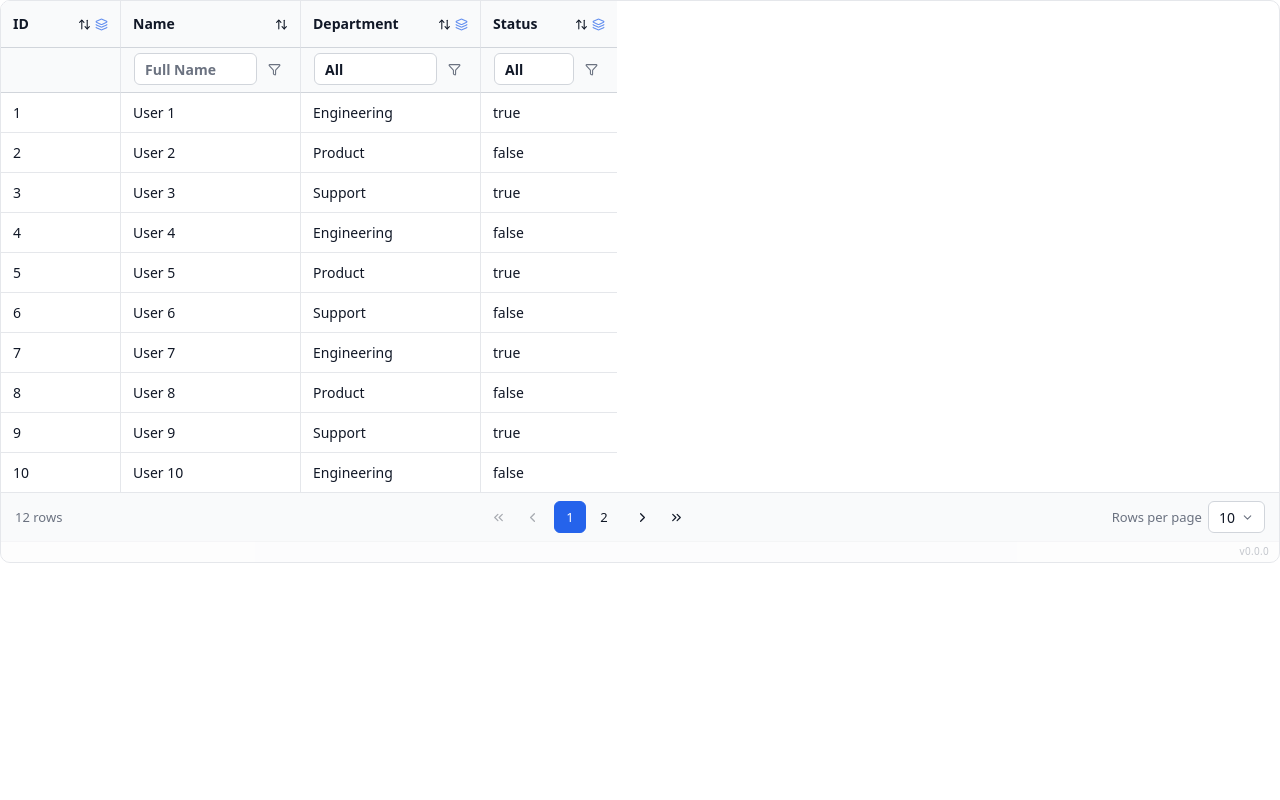
DataTable - pagination › clamps the page index after a column filter shrinks the row count
Step 1. Click the button named "Next page" → click(642, 517), box [626,501,658,533]
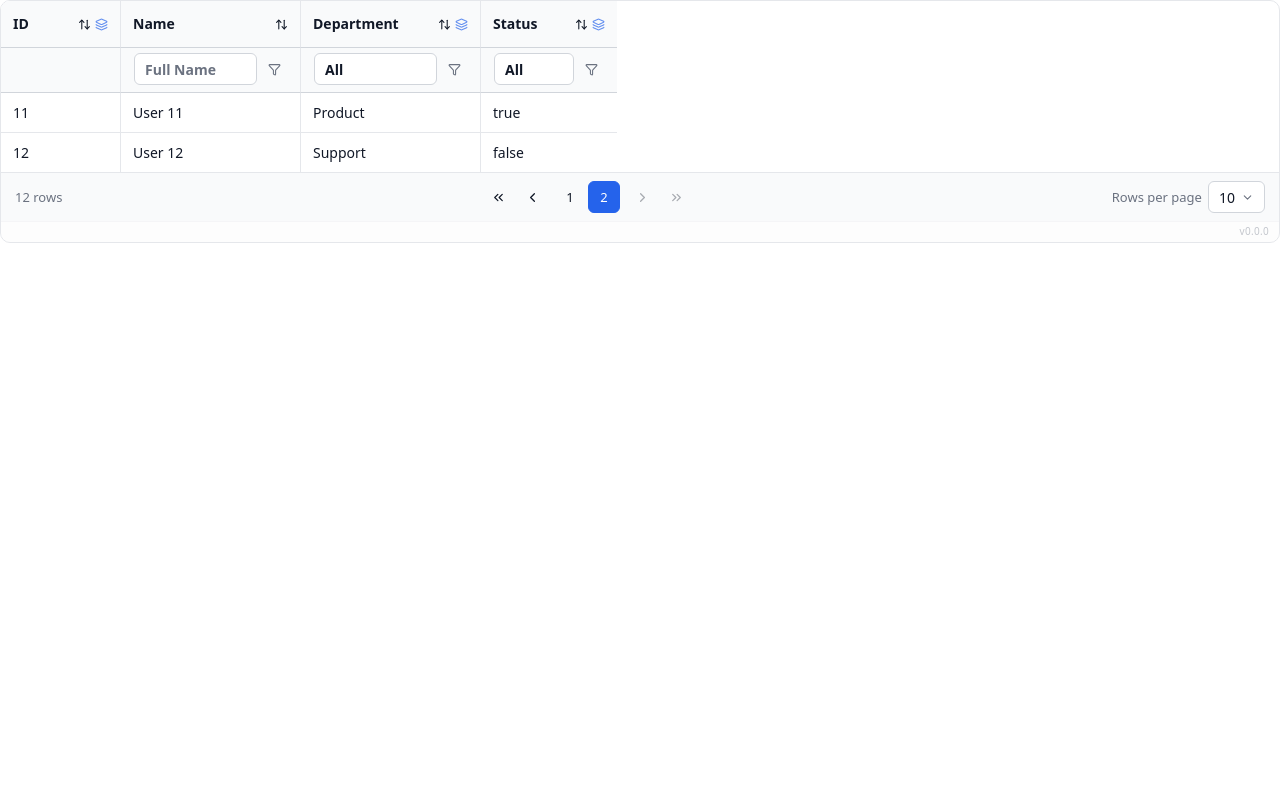
Expected: the button named "Page 2" is marked as current, [588,181,620,213]
Step 2. Click the button with aria-label "Filter Department" → click(376, 69), box [314,53,437,85]
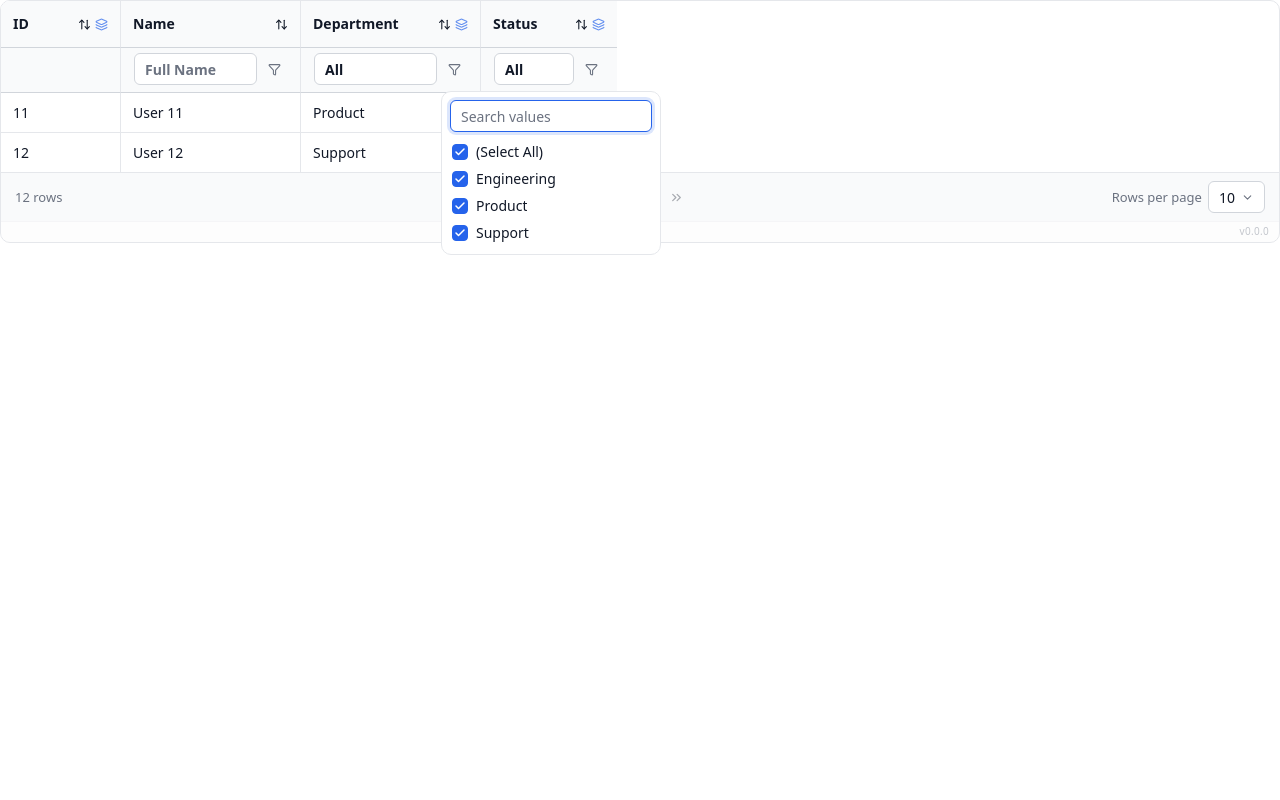
Step 3. Click the checkbox named "Select all Department values" → click(460, 152), box [452,144,468,160]
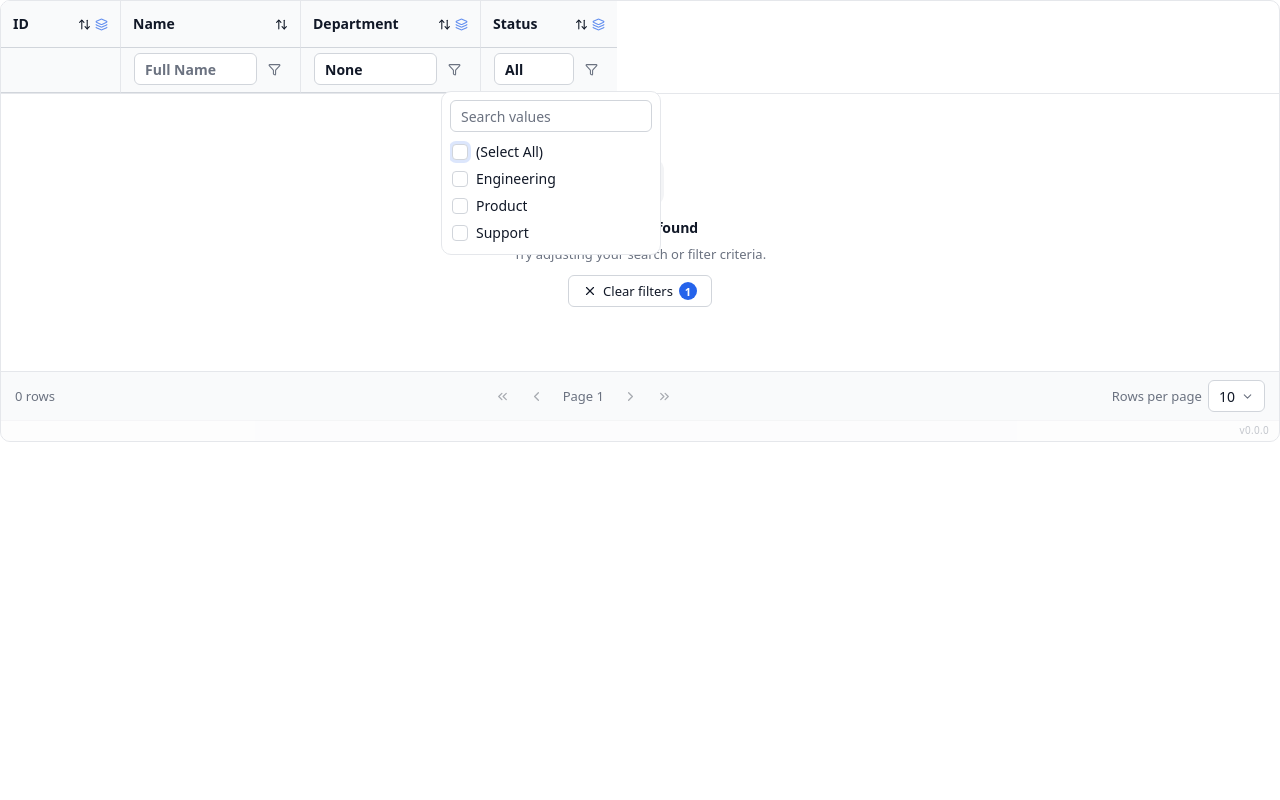
Step 4. Click the checkbox named "Product" → click(460, 206), box [452,198,468,214]
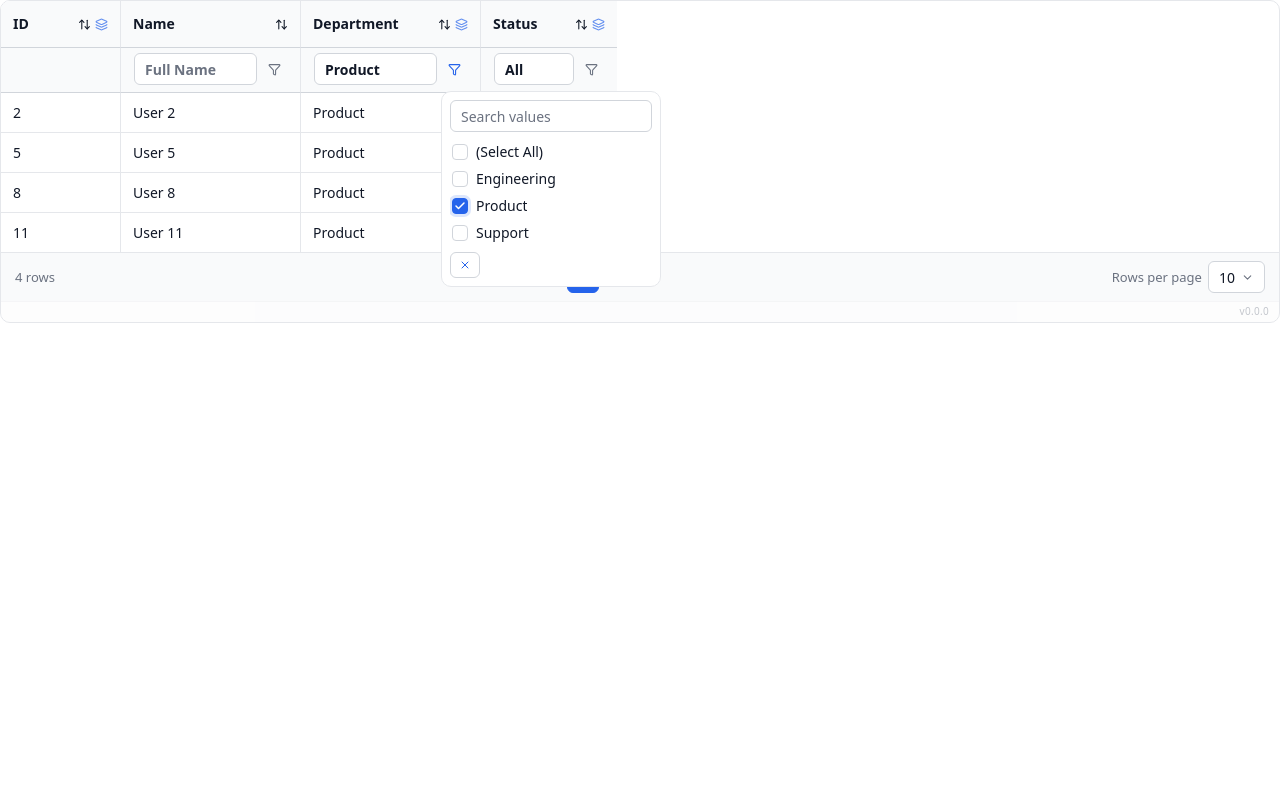
Expected: the text "User 2" is shown, [121,93,301,133]
Expected: the text "User 5" is shown, [121,133,301,173]
Expected: the text "User 8" is shown, [121,173,301,213]
